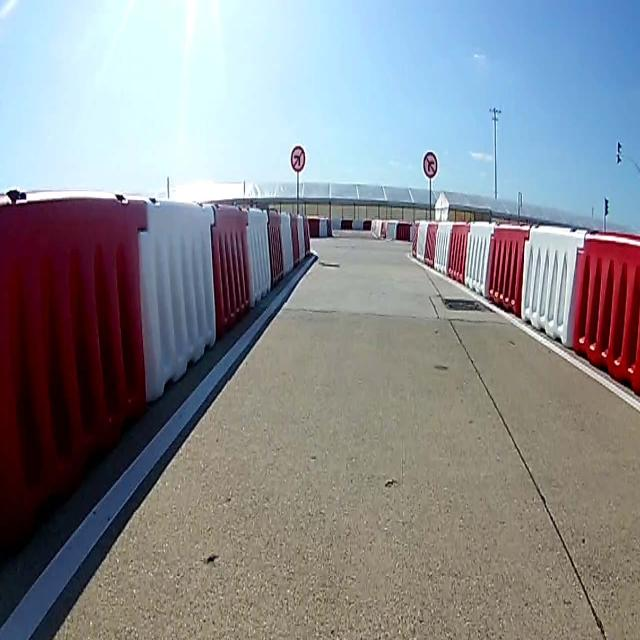sagadonulmez: (424, 154, 438, 177)
soladonulmez: (292, 142, 306, 174)
